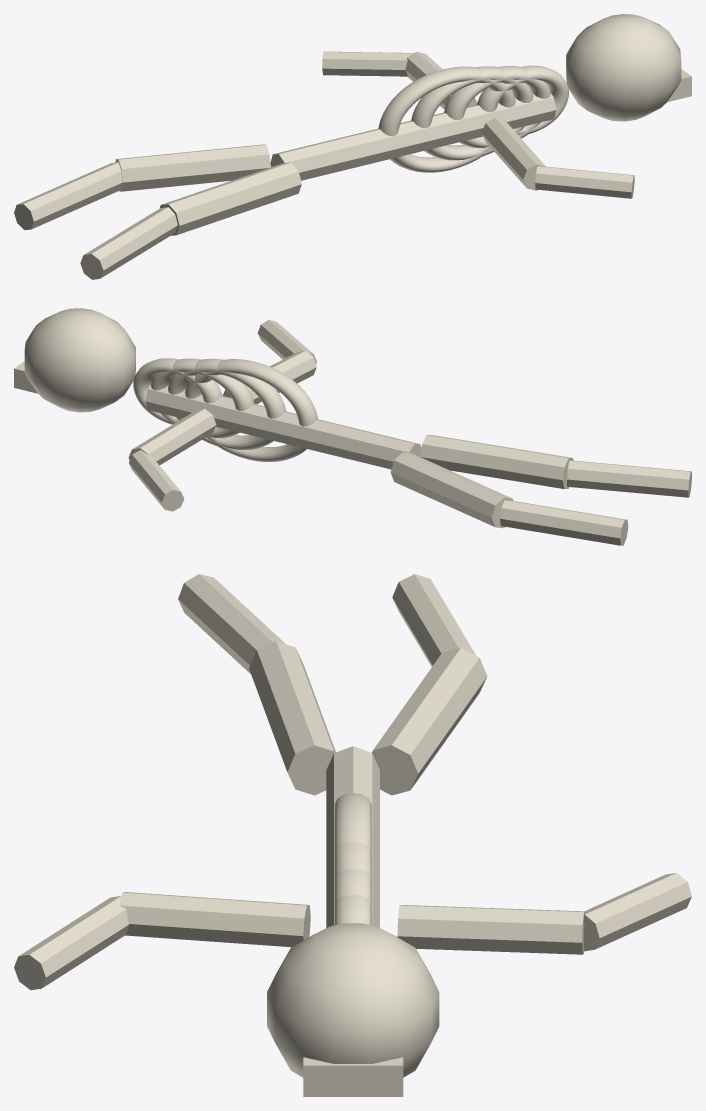
File: skeleton.glb
The picture shows the model from 3 angles, top to bottom: view 1: azimuth 30°, elevation 25°; view 2: azimuth 150°, elevation 25°; view 3: azimuth 270°, elevation 25°; orthographic projection. The views are drawn at different scales.
Parts seen in each view (by area): view 1: sk_skull, sk_spine, sk_leg1a, sk_leg2a, sk_rib, sk_leg1b, sk_leg2b, sk_rib.001, sk_arm2b, sk_arm2a, sk_arm1b, sk_rib.002 (+2 smaller); view 2: sk_skull, sk_spine, sk_leg2a, sk_leg1a, sk_leg1b, sk_rib, sk_leg2b, sk_rib.001, sk_arm1a, sk_rib.002, sk_arm1b, sk_rib.003 (+3 smaller); view 3: sk_skull, sk_leg1a, sk_arm1a, sk_arm2a, sk_leg2a, sk_arm2b, sk_spine, sk_leg2b, sk_arm1b, sk_leg1b, sk_jaw, sk_rib (+3 smaller).
Part boxes in pixels (x1,y1,x2,y2): sk_skull: [566, 14, 681, 121]; sk_spine: [270, 93, 556, 180]; sk_leg1a: [115, 144, 270, 191]; sk_leg2a: [160, 162, 301, 235]; sk_rib: [378, 66, 515, 172]; sk_leg1b: [14, 162, 122, 230]; sk_leg2b: [80, 207, 177, 279]; sk_rib.001: [411, 66, 533, 160]; sk_arm2b: [535, 166, 634, 198]; sk_arm2a: [481, 117, 545, 190]; sk_arm1b: [322, 51, 413, 76]; sk_rib.002: [444, 66, 550, 147]; sk_skull: [24, 308, 135, 412]; sk_spine: [145, 385, 421, 469]; sk_leg2a: [420, 434, 573, 489]; sk_leg1a: [390, 452, 513, 528]; sk_leg1b: [500, 500, 628, 545]; sk_rib: [185, 359, 317, 461]; sk_leg2b: [567, 460, 691, 497]; sk_rib.001: [168, 358, 286, 449]; sk_arm1a: [128, 408, 216, 465]; sk_rib.002: [150, 358, 254, 438]; sk_arm1b: [129, 450, 184, 511]; sk_rib.003: [133, 358, 222, 424]; sk_skull: [267, 923, 439, 1077]; sk_leg1a: [372, 648, 487, 795]; sk_arm1a: [397, 905, 585, 954]; sk_arm2a: [119, 892, 310, 947]; sk_leg2a: [249, 641, 335, 795]; sk_arm2b: [14, 896, 128, 990]; sk_spine: [326, 746, 379, 927]; sk_leg2b: [178, 574, 285, 673]; sk_arm1b: [584, 873, 691, 951]; sk_leg1b: [392, 574, 475, 666]; sk_jaw: [303, 1057, 403, 1096]; sk_rib: [334, 793, 371, 849].
Bounding box in the file's own units: 1.52 × 0.2412 × 0.8811.
